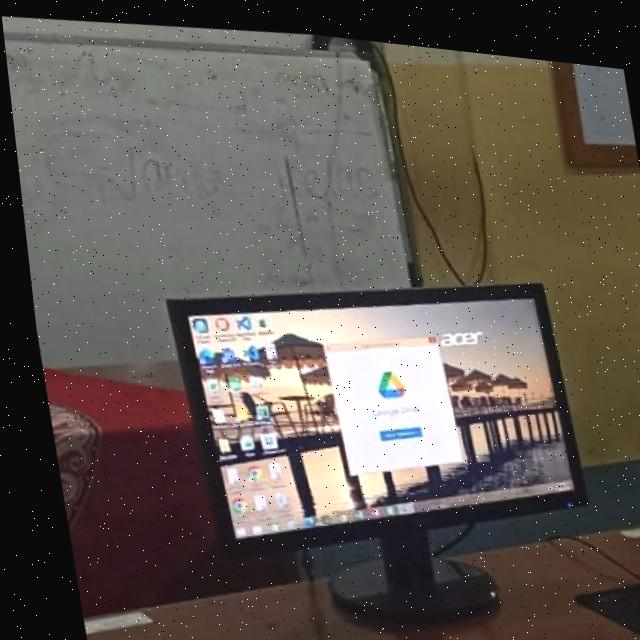onscreen: (162, 275, 576, 541)
